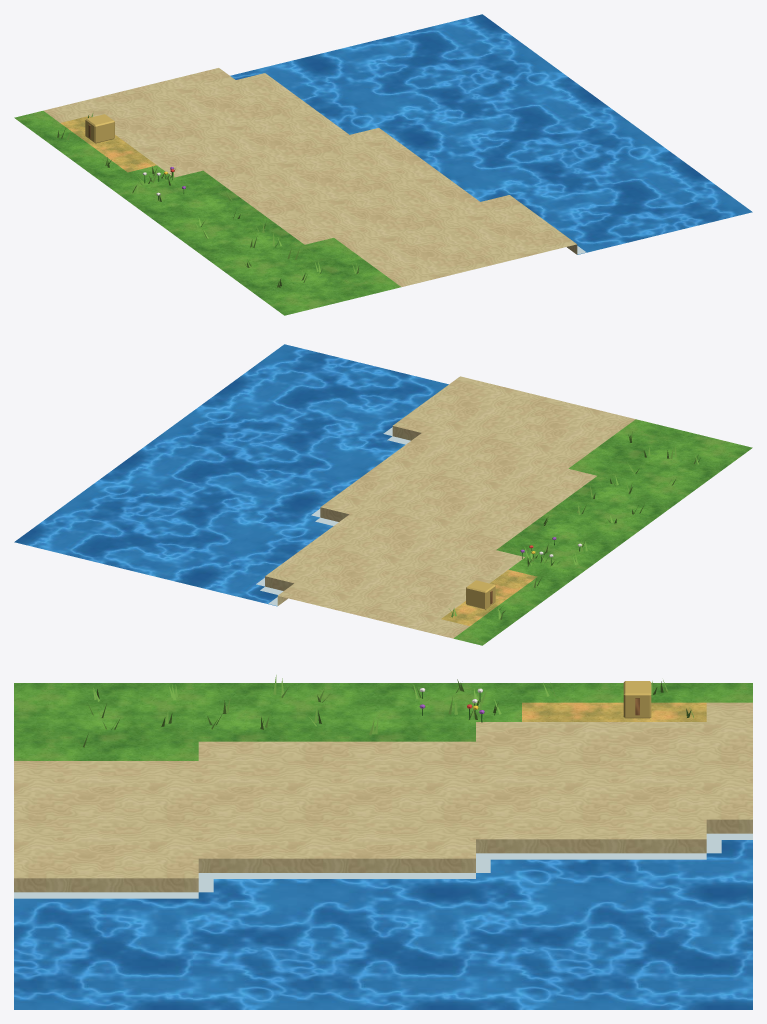
File: chunk_11_10.glb
3 views of the same model, one above another, from view 1: azimuth 30°, elevation 25°; view 2: azimuth 150°, elevation 25°; view 3: azimuth 270°, elevation 25° (orthographic). The views are drawn at different scales.
Parts seen in each view (by area): view 1: chunk_11_10; view 2: chunk_11_10; view 3: chunk_11_10.
Part boxes in pixels (x1,y1,x2,y2): chunk_11_10: (14,14,752,315); chunk_11_10: (14,344,752,645); chunk_11_10: (14,675,752,1009).
Bounding box in the file's own units: 16 × 0.95 × 16.
Materials: 13 (6 with a texture image).
